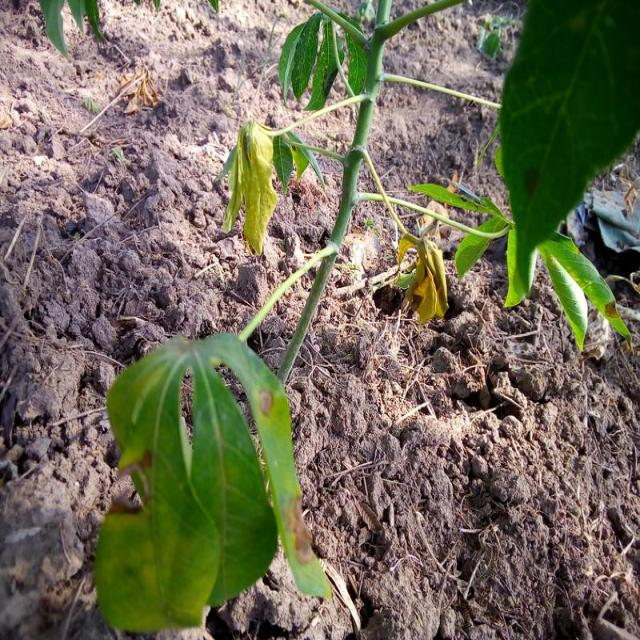cassava leaf: (94, 330, 332, 634), (496, 0, 640, 314)
